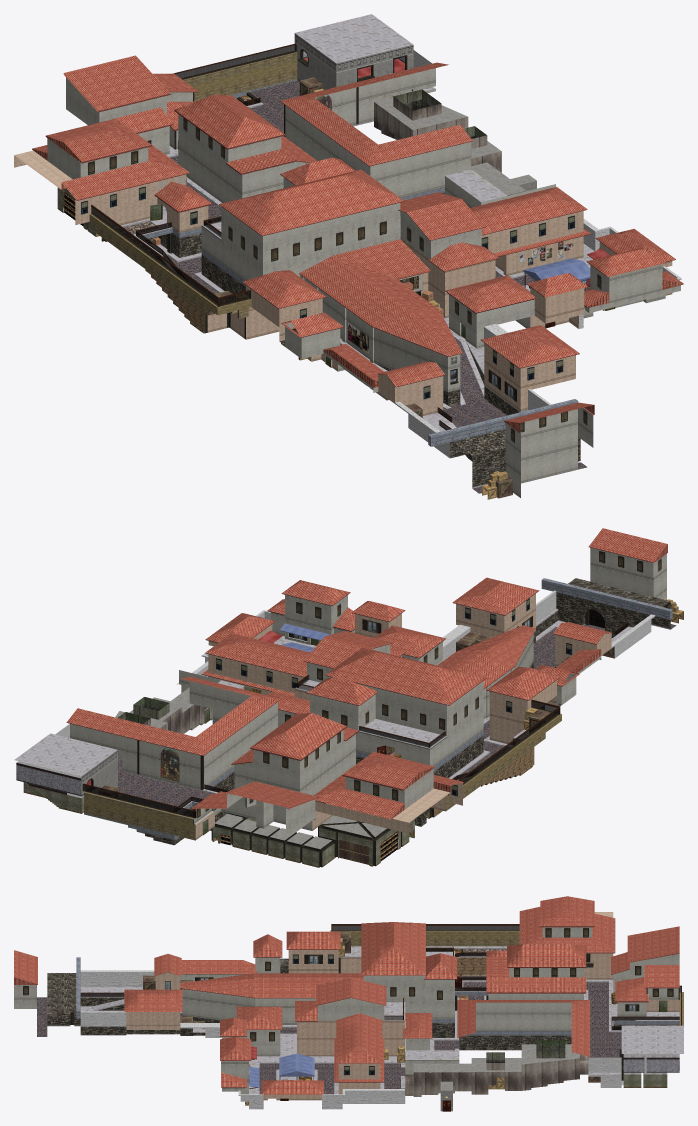
3 renders of one model, top to bottom at view 1: azimuth 30°, elevation 25°; view 2: azimuth 150°, elevation 25°; view 3: azimuth 270°, elevation 25°, orthographic. The views are drawn at different scales.
Bounding box in the file's own units: 2832 × 752 × 5152.
Materials: 86 (86 with a texture image).
